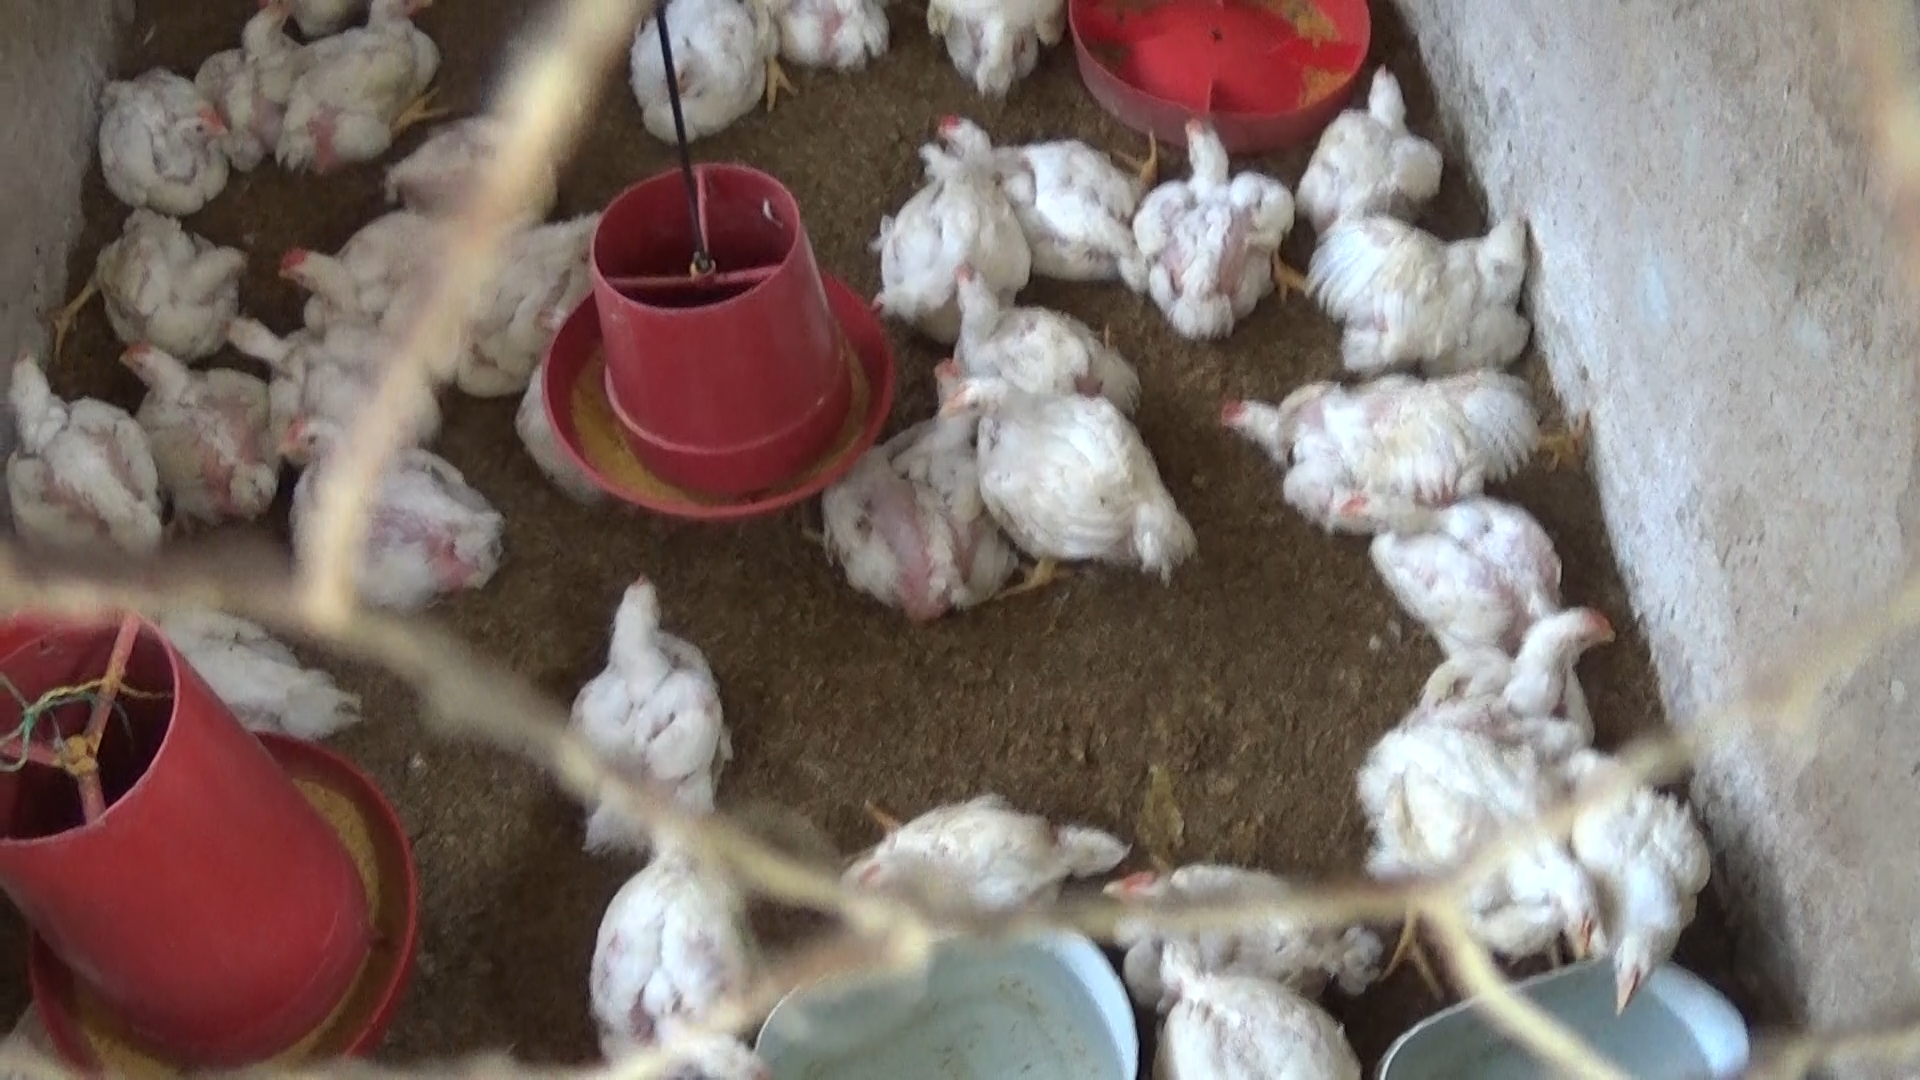Pollos: (1350, 717, 1594, 986), (956, 359, 1189, 626), (789, 375, 1006, 622), (1215, 371, 1585, 516), (272, 406, 517, 607), (1069, 828, 1360, 997), (1120, 102, 1313, 332), (553, 576, 735, 822), (562, 829, 742, 1073), (831, 775, 1130, 920), (1567, 748, 1749, 984), (1332, 479, 1582, 642), (123, 583, 353, 760), (1313, 200, 1536, 378), (5, 338, 182, 551), (934, 109, 1171, 262), (105, 332, 299, 516), (41, 196, 245, 368), (938, 255, 1142, 418), (216, 295, 433, 443), (280, 0, 458, 179), (446, 204, 616, 386), (1431, 585, 1644, 727), (886, 138, 1010, 336), (1300, 61, 1451, 222), (256, 208, 448, 334), (616, 0, 782, 144), (96, 61, 252, 207), (204, 0, 316, 156), (915, 0, 1077, 105), (767, 0, 895, 83)
